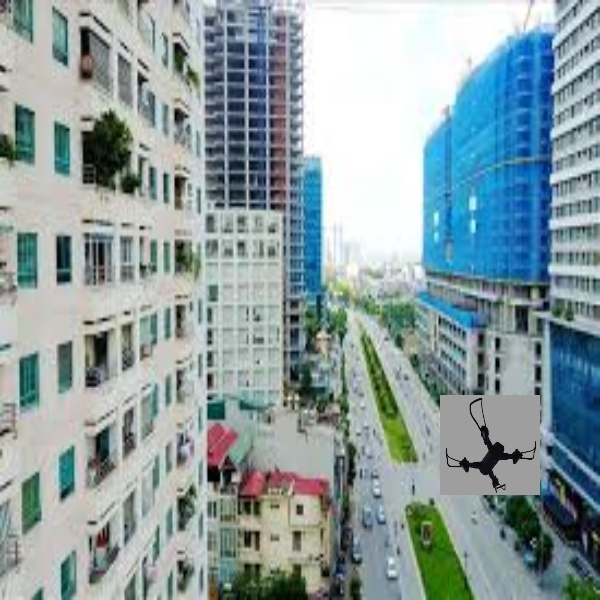drone: (436, 386, 539, 497)
